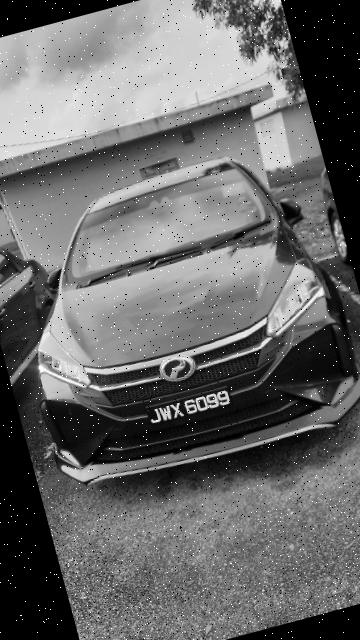License_Plate: (128, 376, 245, 439)
car: (1, 141, 360, 505), (1, 224, 80, 395), (315, 168, 352, 268)
